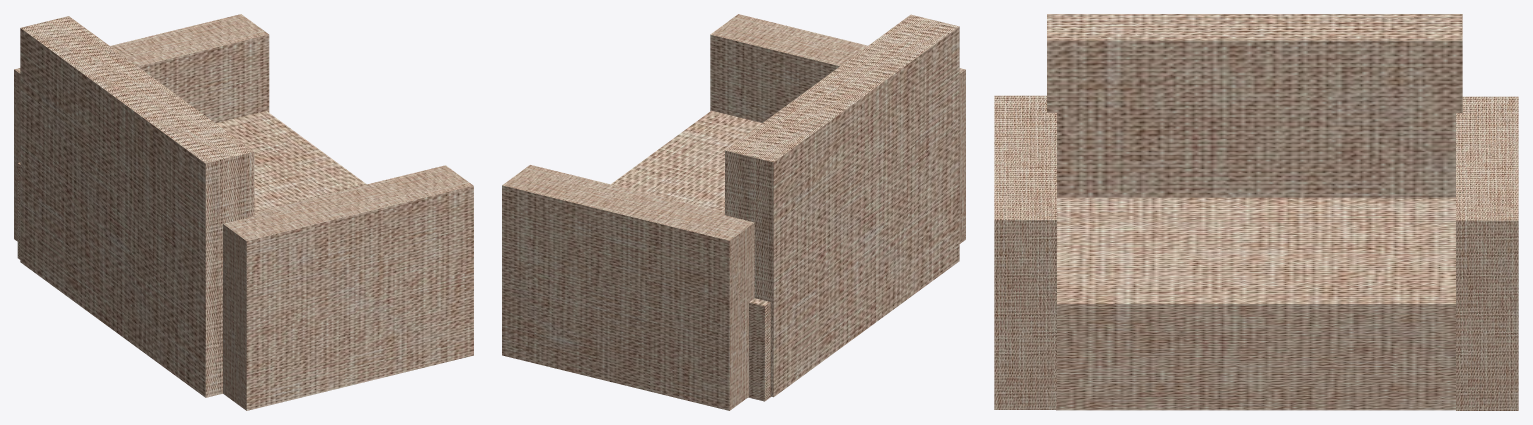
File: Sofa_Krem.gltf
3 views of the same model, side by side, from view 1: azimuth 30°, elevation 25°; view 2: azimuth 150°, elevation 25°; view 3: azimuth 270°, elevation 25° (orthographic). The views are drawn at different scales.
Parts seen in each view (by area): view 1: Cube.002, Cube.001, Cube, Cube.004; view 2: Cube.002, Cube, Cube.001, Cube.004; view 3: Cube.004, Cube.002, Cube, Cube.001.
Boxes of the visible parts, left/top/right/bottom form: Cube.002: left=20, top=16, right=254, bottom=397; Cube.001: left=223, top=165, right=473, bottom=410; Cube: left=14, top=14, right=269, bottom=241; Cube.004: left=17, top=111, right=366, bottom=259; Cube.002: left=725, top=14, right=959, bottom=397; Cube: left=502, top=164, right=754, bottom=410; Cube.001: left=710, top=14, right=965, bottom=243; Cube.004: left=611, top=110, right=770, bottom=401; Cube.004: left=1056, top=197, right=1455, bottom=410; Cube.002: left=1047, top=14, right=1462, bottom=197; Cube: left=1456, top=96, right=1518, bottom=410; Cube.001: left=994, top=95, right=1056, bottom=409.
Size of the model in its own units: 1.52 by 1.39 by 2.5.
Materials: 4 (4 with a texture image).
